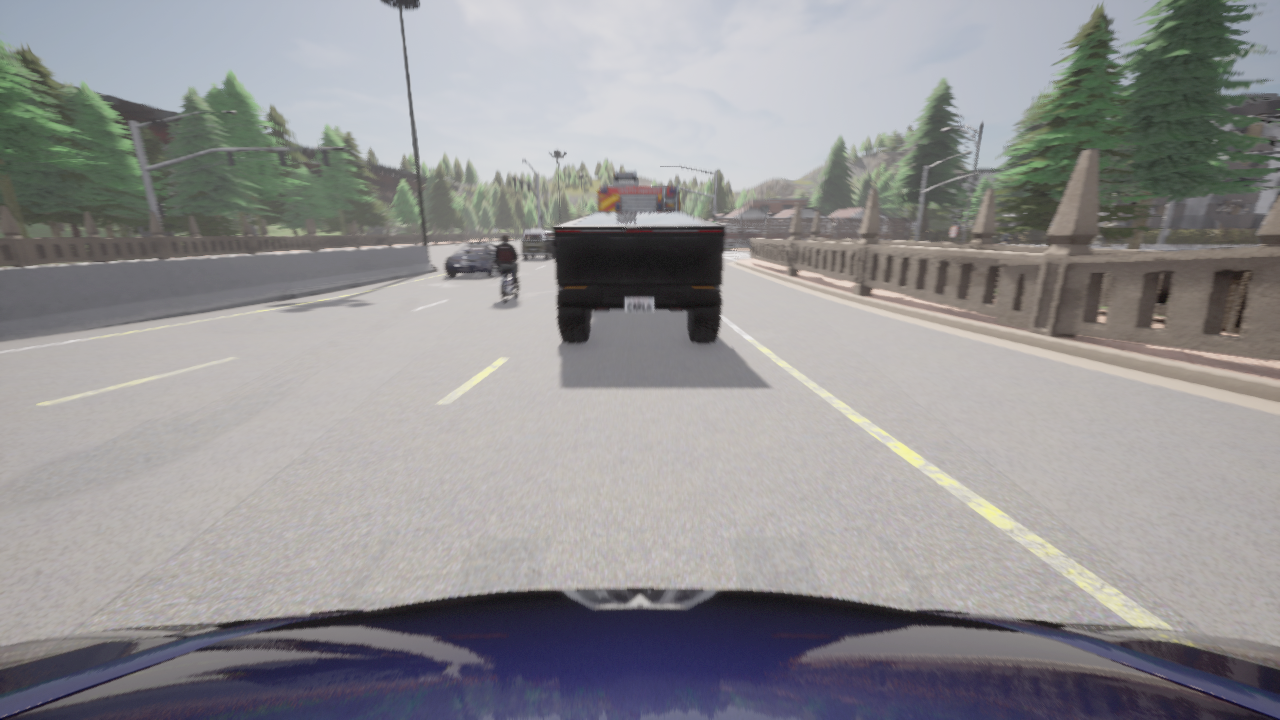cyclist: (0, 588, 1279, 719), (553, 212, 724, 342), (597, 171, 679, 211), (445, 243, 510, 276), (521, 229, 554, 258), (500, 270, 517, 302)
pedestrian: (1092, 235, 1106, 247), (1001, 232, 1009, 244), (800, 235, 801, 239)
